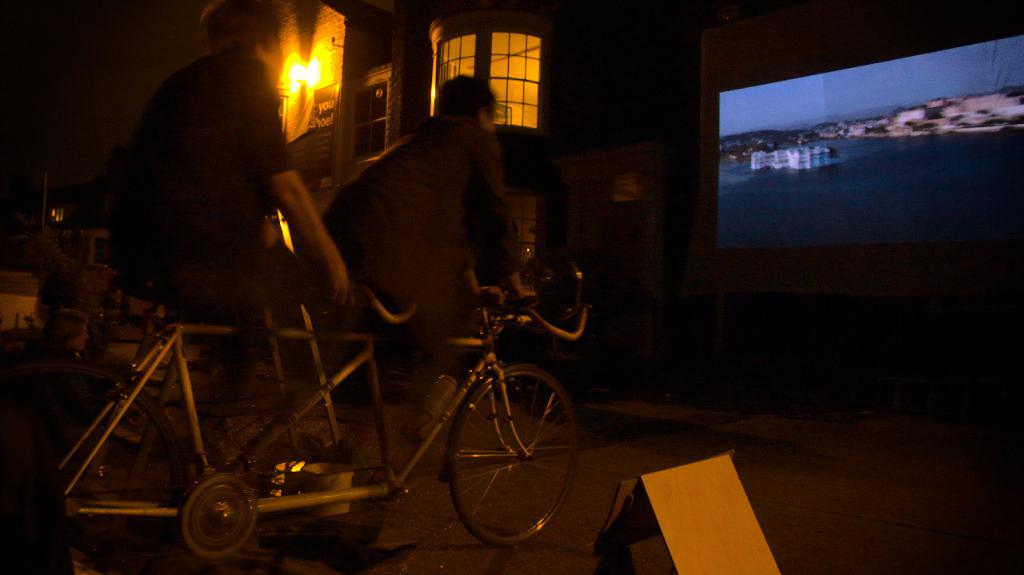Wheel: (2, 362, 190, 574), (442, 355, 574, 540)
